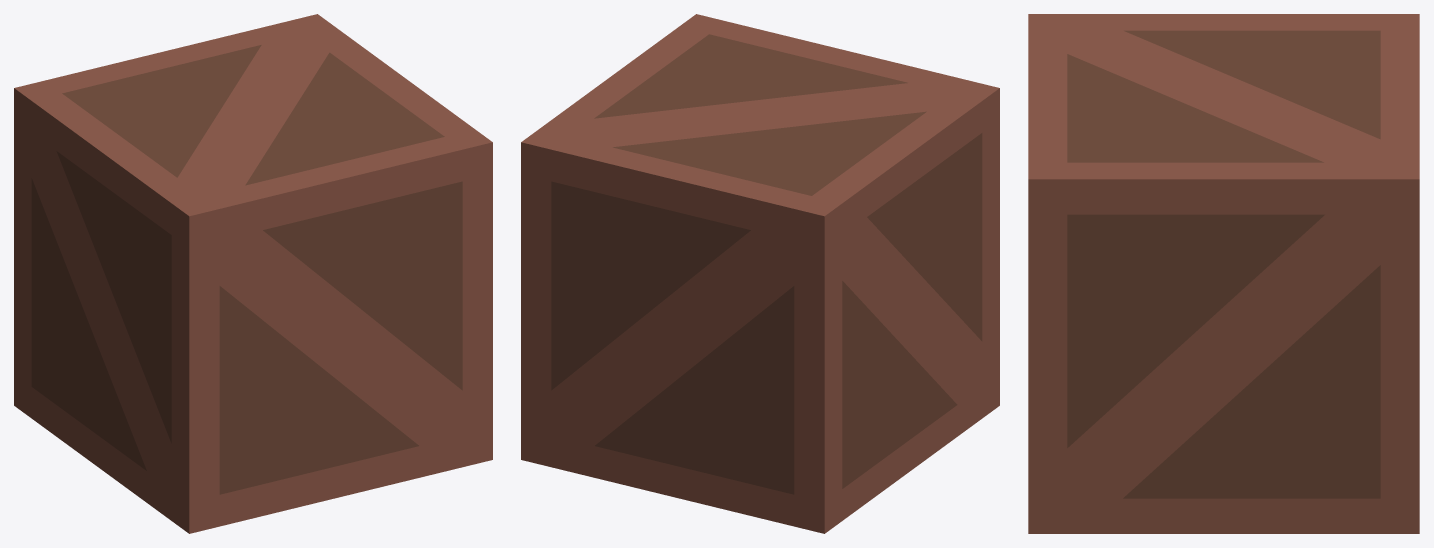
Rendered from TB_Env_Box.FBX.
3 renders of one model, left to right at view 1: azimuth 30°, elevation 25°; view 2: azimuth 150°, elevation 25°; view 3: azimuth 270°, elevation 25°, orthographic. The views are drawn at different scales.
Parts seen in each view (by area): view 1: TB_Env_Box; view 2: TB_Env_Box; view 3: TB_Env_Box.
Boxes of the visible parts, box(x1,y1,x2,y2) form: TB_Env_Box: box(14, 14, 492, 533); TB_Env_Box: box(521, 14, 999, 533); TB_Env_Box: box(1028, 14, 1419, 533).
Bounding box in the file's own units: 1 × 1 × 1.
